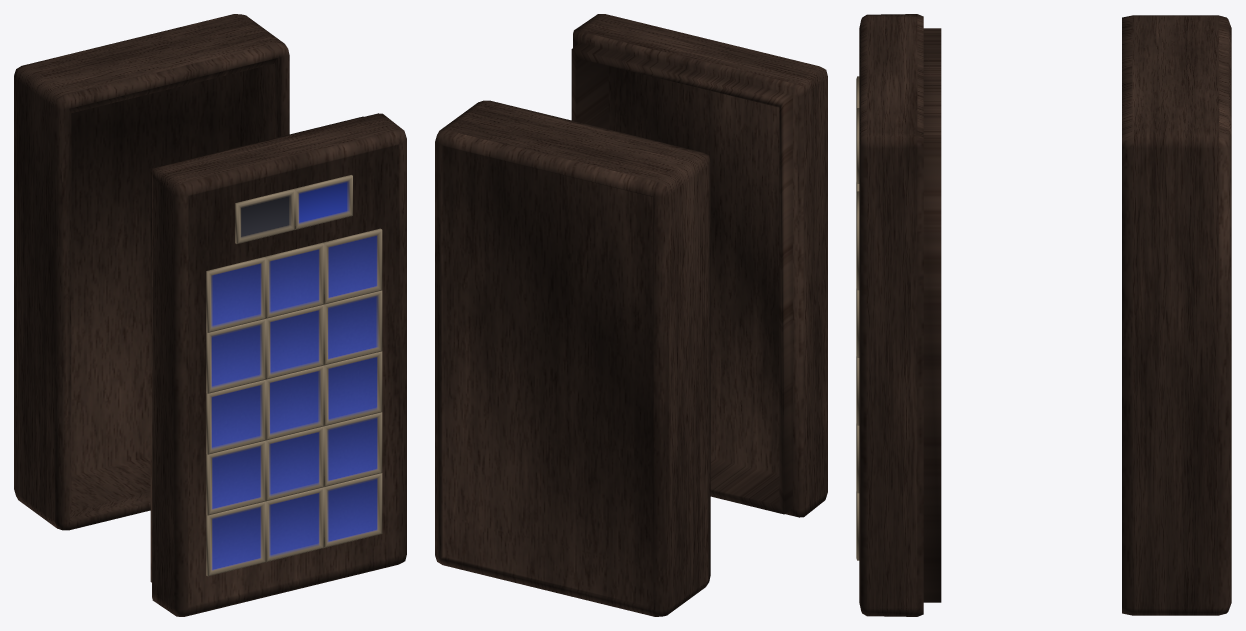
The model's file is bluePadBox3x5_B.fbx.
The picture shows the model from 3 angles, left to right: view 1: azimuth 30°, elevation 25°; view 2: azimuth 150°, elevation 25°; view 3: azimuth 270°, elevation 25°; orthographic projection. The views are drawn at different scales.
Parts seen in each view (by area): view 1: bluePadBox3x5:Box001; view 2: bluePadBox3x5:Box001; view 3: bluePadBox3x5:Box001.
Part boxes in pixels (<box>): bluePadBox3x5:Box001: <box>14,14,406,616</box>; bluePadBox3x5:Box001: <box>435,14,827,616</box>; bluePadBox3x5:Box001: <box>856,14,1231,616</box>.
Bounding box in the file's own units: 80 × 143 × 101.
1 material, 1 textured.
